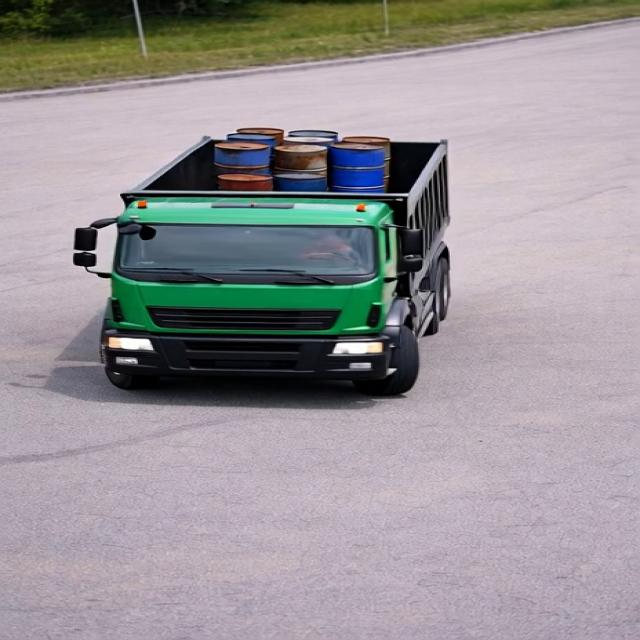trailer: (104, 130, 500, 218)
truck: (72, 120, 556, 402)
